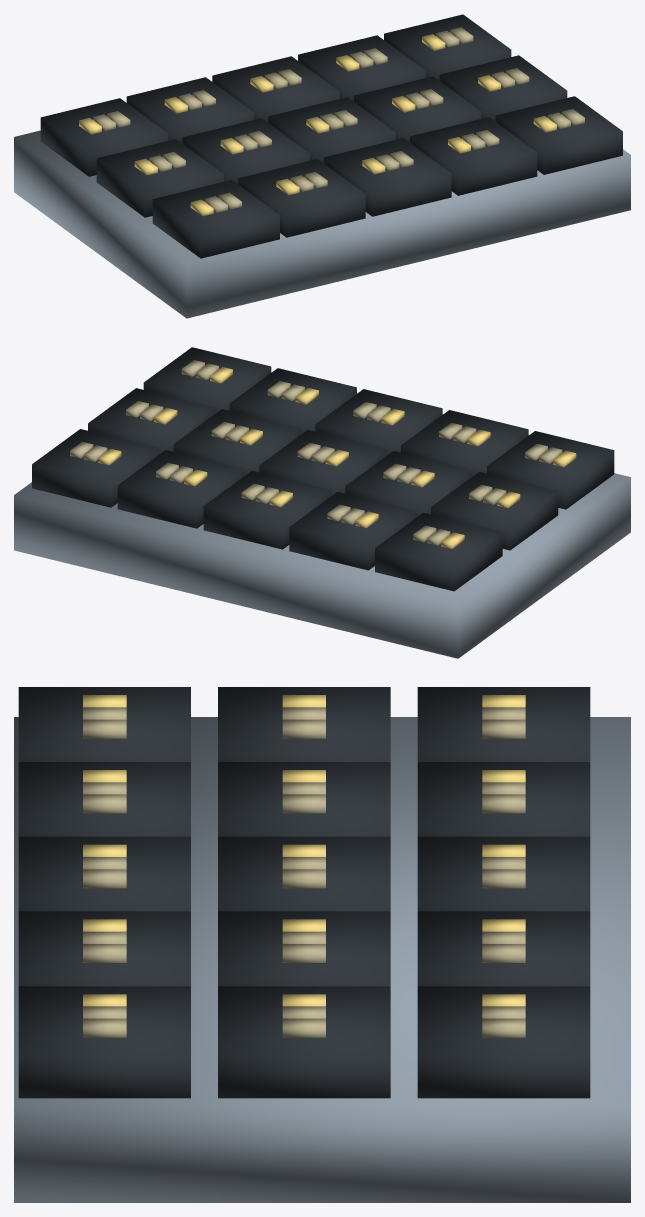
The model's file is 07_L95_PartsAndReworkTray.fbx.
The picture shows the model from 3 angles, top to bottom: view 1: azimuth 30°, elevation 25°; view 2: azimuth 150°, elevation 25°; view 3: azimuth 270°, elevation 25°; orthographic projection. The views are drawn at different scales.
Parts seen in each view (by area): view 1: L95_PartsAndReworkTray; view 2: L95_PartsAndReworkTray; view 3: L95_PartsAndReworkTray.
Part boxes in pixels (left/top/right/bottom): L95_PartsAndReworkTray: left=14, top=14, right=630, bottom=318; L95_PartsAndReworkTray: left=14, top=347, right=630, bottom=658; L95_PartsAndReworkTray: left=14, top=687, right=630, bottom=1202.
Size of the model in its own units: 1.01 by 0.184 by 0.68.
